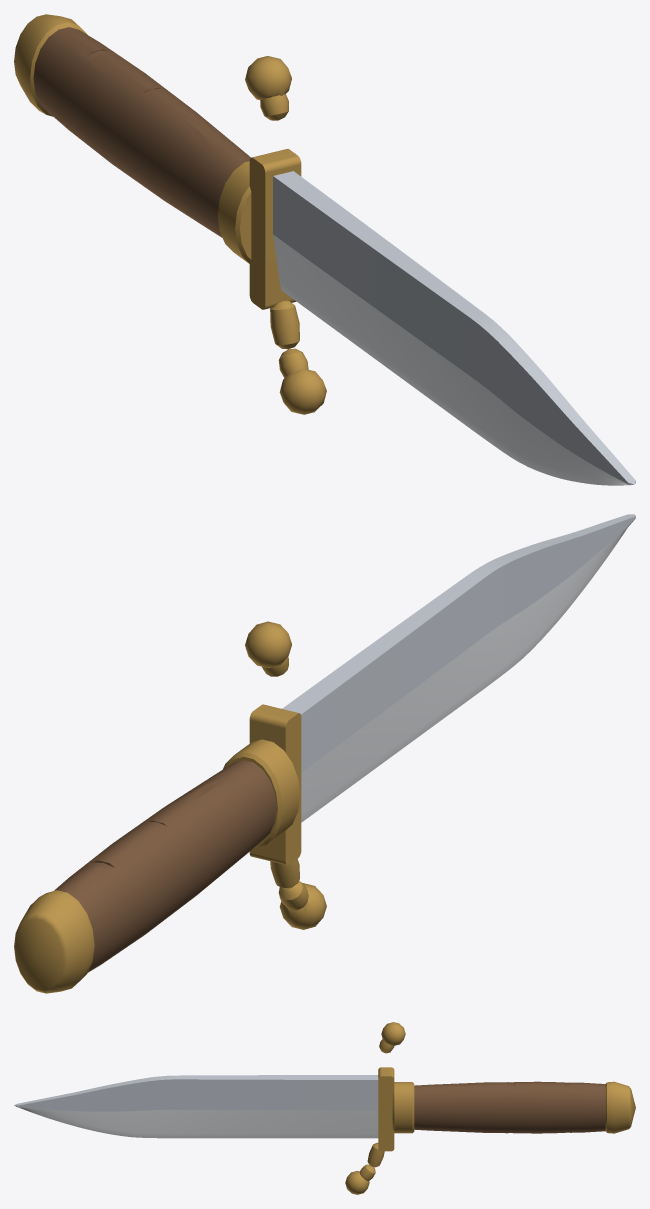
Rendered from w_knife@knife_bowie.glb.
The picture shows the model from 3 angles, top to bottom: view 1: azimuth 30°, elevation 25°; view 2: azimuth 150°, elevation 25°; view 3: azimuth 270°, elevation 25°; orthographic projection. The views are drawn at different scales.
Parts seen in each view (by area): view 1: blade_wzB__steel__pc9cfd8, grip_wzA__stag__p7a5a40, blade_wzB__edge__peef1f5, guard_wzN__brass__pb8924a, ferrule_wzN__brass__pb8924a, cap_wzN__brass__pb8924a; view 2: blade_wzB__steel__pc9cfd8, grip_wzA__stag__p7a5a40, blade_wzB__edge__peef1f5, guard_wzN__brass__pb8924a, cap_wzN__brass__pb8924a, ferrule_wzN__brass__pb8924a; view 3: blade_wzB__steel__pc9cfd8, grip_wzA__stag__p7a5a40, blade_wzB__edge__peef1f5, guard_wzN__brass__pb8924a, cap_wzN__brass__pb8924a, ferrule_wzN__brass__pb8924a.
Part boxes in pixels (<box>): blade_wzB__steel__pc9cfd8: <box>273,171,635,484</box>; grip_wzA__stag__p7a5a40: <box>33,27,250,237</box>; blade_wzB__edge__peef1f5: <box>273,234,633,485</box>; guard_wzN__brass__pb8924a: <box>245,56,326,414</box>; ferrule_wzN__brass__pb8924a: <box>217,161,251,263</box>; cap_wzN__brass__pb8924a: <box>14,14,87,116</box>; blade_wzB__steel__pc9cfd8: <box>282,514,635,772</box>; grip_wzA__stag__p7a5a40: <box>54,760,276,972</box>; blade_wzB__edge__peef1f5: <box>301,518,635,822</box>; guard_wzN__brass__pb8924a: <box>245,621,326,929</box>; cap_wzN__brass__pb8924a: <box>14,890,94,993</box>; ferrule_wzN__brass__pb8924a: <box>223,739,300,848</box>; blade_wzB__steel__pc9cfd8: <box>14,1075,378,1111</box>; grip_wzA__stag__p7a5a40: <box>414,1081,605,1133</box>; blade_wzB__edge__peef1f5: <box>17,1106,378,1138</box>; guard_wzN__brass__pb8924a: <box>345,1022,405,1194</box>; cap_wzN__brass__pb8924a: <box>605,1081,635,1133</box>; ferrule_wzN__brass__pb8924a: <box>392,1082,414,1133</box>.
Bounding box in the file's own units: 0.0219 × 0.1046 × 0.345.
